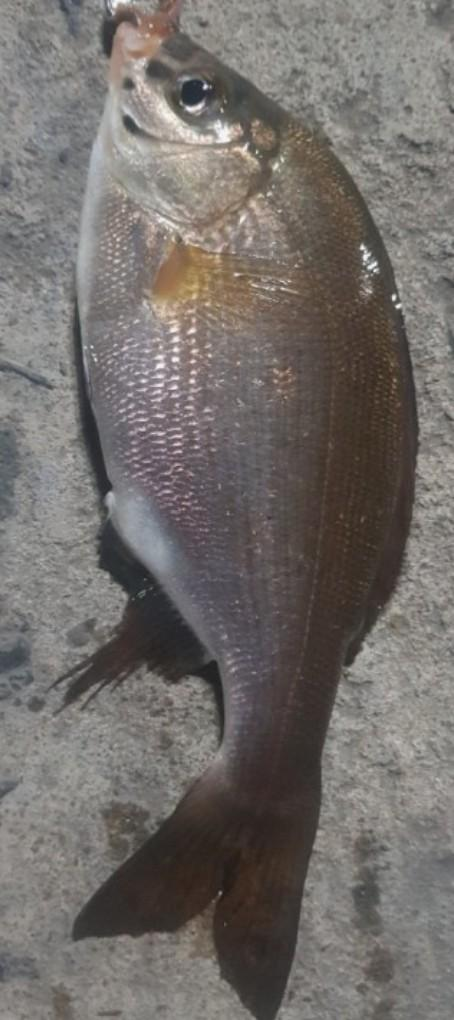fish: (73, 7, 420, 1019)
